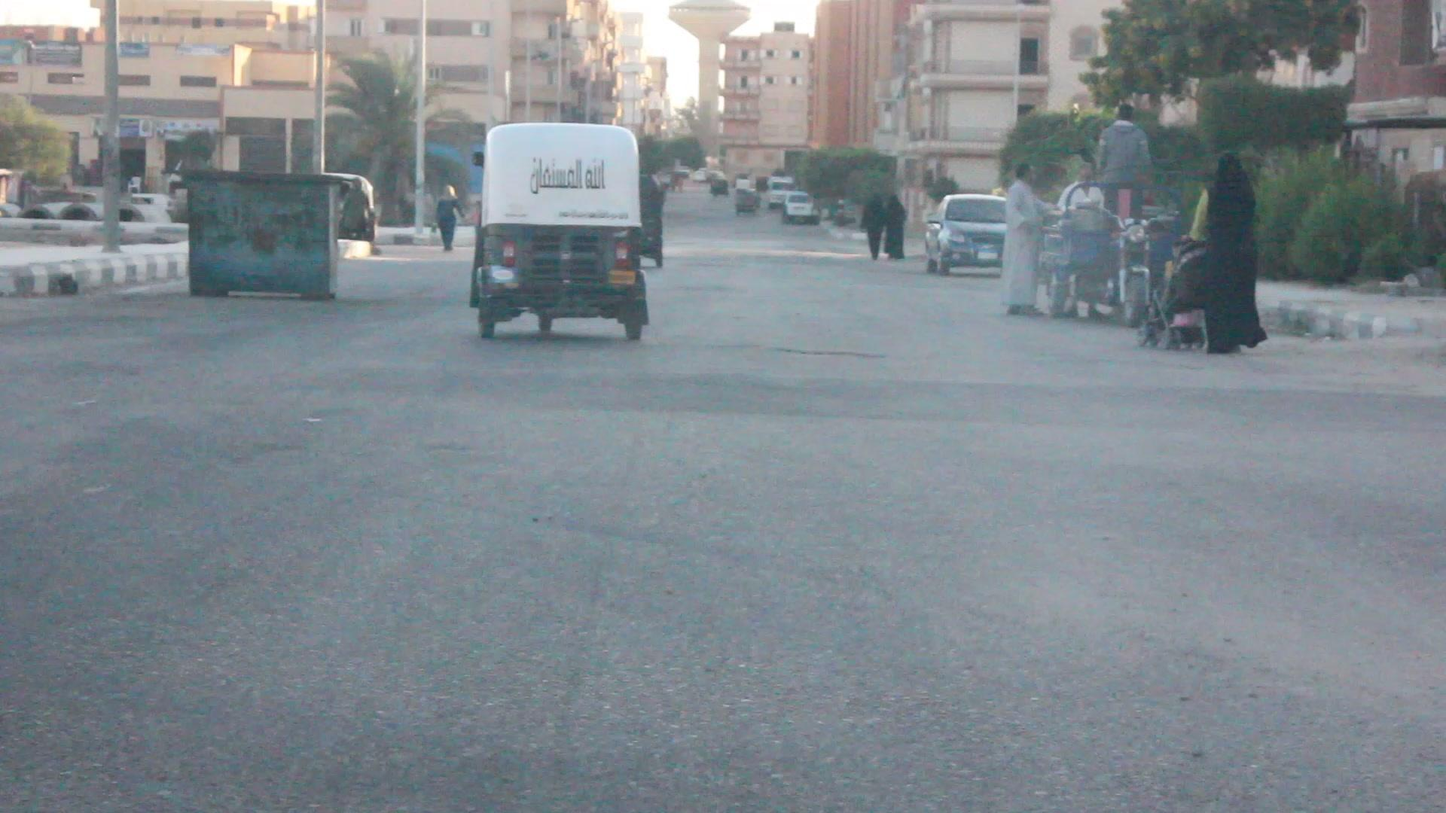Bump: (9, 341, 1446, 431)
